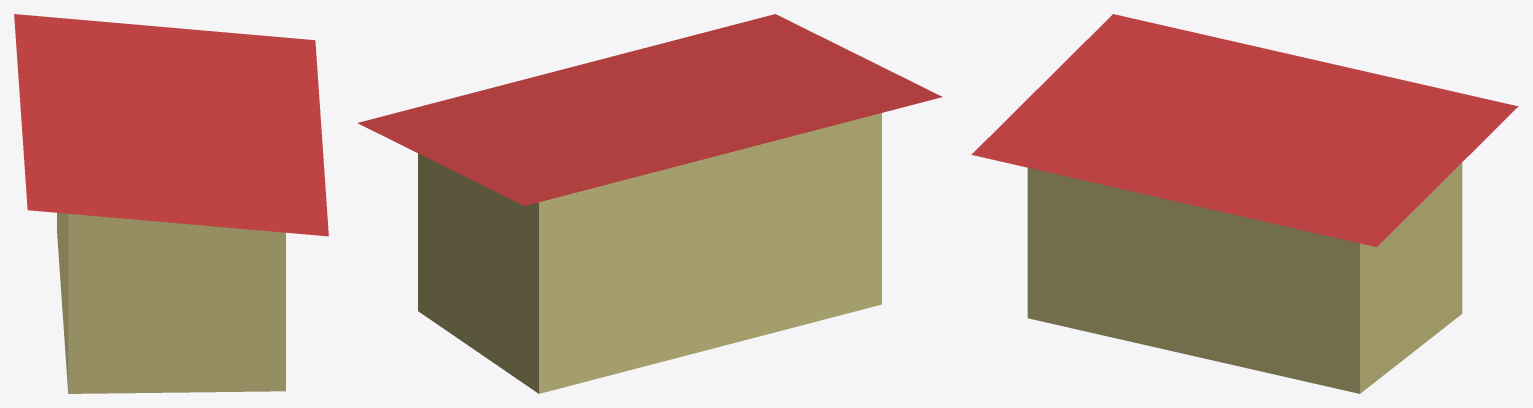
3 renders of one model, left to right at view 1: azimuth 30°, elevation 25°; view 2: azimuth 150°, elevation 25°; view 3: azimuth 270°, elevation 25°, orthographic. The views are drawn at different scales.
Bounding box in the file's own units: 23.24 × 26.4 × 10.66.
